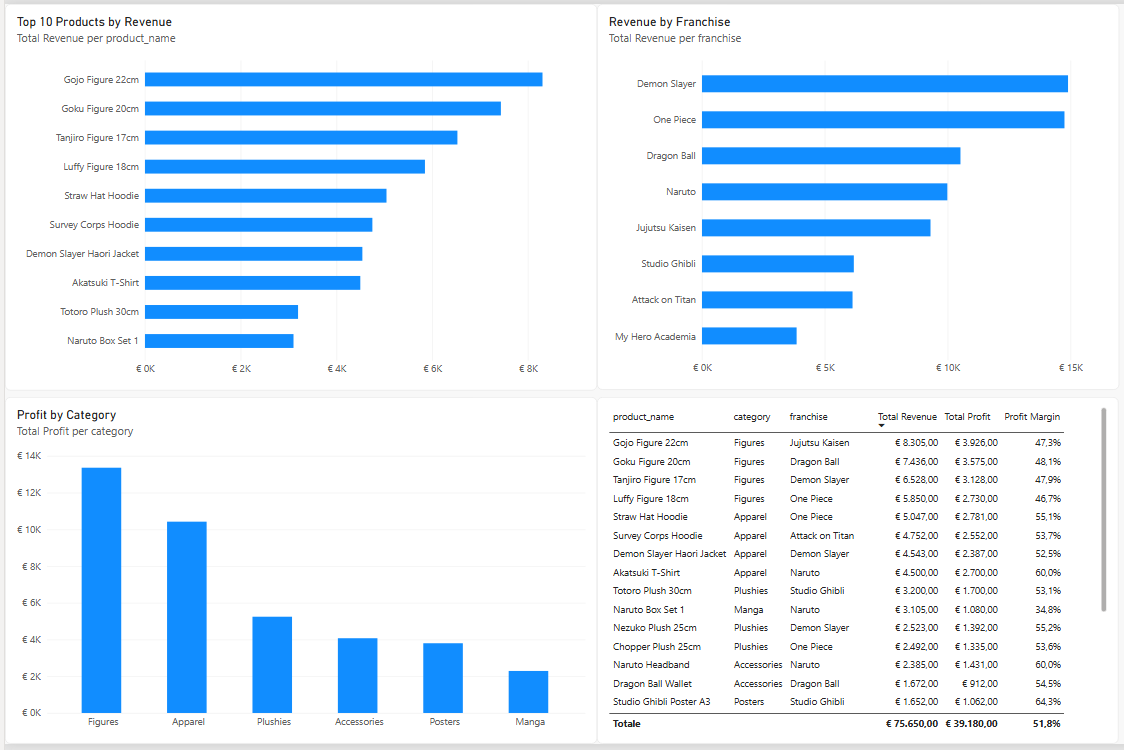

What the dashboard file says about the page in this screenshot:
{"tool":"powerbi","page":{"name":"Products","canvas":[1920,1080],"ordinal":1},"visuals":[{"type":"clusteredBarChart","title":"Top 10 Products by Revenue","fields":{"Category":["Sales.product_name"],"Y":["Sales.Total Revenue"]},"box":[0,0,863.8,563.8],"z":0},{"type":"clusteredBarChart","title":"Revenue by Franchise","fields":{"Category":["Sales.franchise"],"Y":["Sales.Total Revenue"]},"box":[863.7,0,761.6,563.2],"z":1},{"type":"clusteredColumnChart","title":"Profit by Category","fields":{"Category":["Sales.category"],"Y":["Sales.Total Profit"]},"box":[0,574,864,506],"z":2},{"type":"tableEx","fields":{"Values":["Sales.product_name","Sales.category","Sales.franchise","Sales.Total Revenue","Sales.Total Profit","Sales.Profit Margin"]},"box":[864,574,761,506],"z":3}]}

Visuals, with their boxes on the page's 1920x1080 design canvas (x1, y1, x2, y2). These are canvas units, not pixel positions in the 1124x750 screenshot, which may show the page scaled, cropped or inside an application window:
"Top 10 Products by Revenue" clusteredBarChart: select_region(0, 0, 864, 564)
"Revenue by Franchise" clusteredBarChart: select_region(864, 0, 1625, 563)
"Profit by Category" clusteredColumnChart: select_region(0, 574, 864, 1080)
tableEx - Sales.product_name x Sales.category: select_region(864, 574, 1625, 1080)
